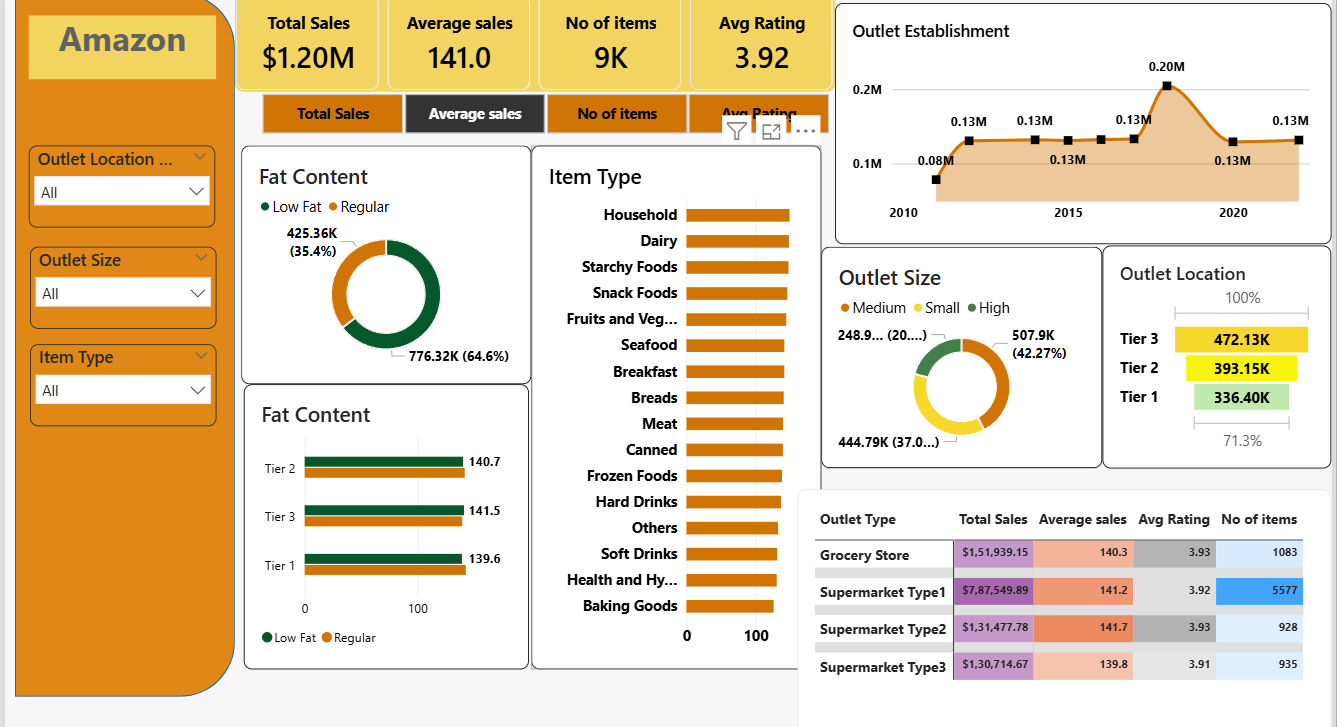

The dashboard page shown, as its layout file describes it:
{"tool":"powerbi","page":{"name":"Page 1","canvas":[1280,720],"ordinal":0},"visuals":[{"type":"shape","box":[9.7,0,212.3,679.2],"z":0},{"type":"textbox","box":[22.9,21.7,181,61.5],"z":1000},{"type":"cardVisual","fields":{"Data":["Table.Total Sales","Table.Average sales","Table.No of items","Table.Avg Rating"]},"box":[222,0,579.1,95.3],"z":2000},{"type":"donutChart","title":"Fat Content","fields":{"Category":["BlinkIT Grocery Data.Item Fat Content"],"Y":["Sum(BlinkIT Grocery Data.Sales)"]},"box":[228,147.2,279.9,230.4],"z":3000},{"type":"slicer","fields":{"Values":["Matrix.Matrix"]},"box":[228,95.3,586.3,42.2],"z":4000},{"type":"clusteredBarChart","title":" Fat Content","fields":{"Category":["BlinkIT Grocery Data.Outlet Location Type"],"Series":["BlinkIT Grocery Data.Item Fat Content"],"Y":["Table.Average sales"]},"box":[230.4,377.6,275.1,275.1],"z":5000},{"type":"barChart","title":"Item Type","fields":{"Category":["BlinkIT Grocery Data.Item Type"],"Y":["Table.Average sales"]},"box":[507.9,147.2,279.9,505.5],"z":6000},{"type":"lineChart","title":" Outlet Establishment","fields":{"Category":["BlinkIT Grocery Data.Outlet Establishment Year"],"Y":["Sum(BlinkIT Grocery Data.Sales)"]},"box":[801.1,9.7,479,232.8],"z":7000},{"type":"donutChart","title":"Outlet Size","fields":{"Category":["BlinkIT Grocery Data.Outlet Size"],"Y":["Sum(BlinkIT Grocery Data.Sales)"]},"box":[787.7,245.3,271.2,213.5],"z":8000},{"type":"funnel","title":"Outlet Location","fields":{"Category":["BlinkIT Grocery Data.Outlet Location Type"],"Y":["Sum(BlinkIT Grocery Data.Sales)"]},"box":[1059,243.8,220.7,215],"z":9000},{"type":"pivotTable","fields":{"Rows":["BlinkIT Grocery Data.Outlet Type"],"Values":["Table.Total Sales","Table.Average sales","Table.Avg Rating","Table.No of items"]},"box":[764.7,479,515.1,240.9],"z":9001},{"type":"slicer","fields":{"Values":["BlinkIT Grocery Data.Outlet Location Type"]},"box":[23.1,147.2,180.3,79.4],"z":9002},{"type":"slicer","fields":{"Values":["BlinkIT Grocery Data.Outlet Size"]},"box":[24.5,245.3,180.3,79.4],"z":9003},{"type":"slicer","fields":{"Values":["BlinkIT Grocery Data.Item Type"]},"box":[24.5,339,180.3,79.4],"z":9004}]}

Visuals, with their boxes in screenshot pixels (x1, y1, x2, y2):
shape: [x1=13, y1=0, x2=232, y2=690]
textbox: [x1=27, y1=12, x2=214, y2=75]
cardVisual - Table.Total Sales x Table.Average sales: [x1=232, y1=0, x2=829, y2=88]
"Fat Content" donutChart: [x1=238, y1=141, x2=527, y2=379]
slicer - Matrix.Matrix: [x1=238, y1=88, x2=843, y2=131]
" Fat Content" clusteredBarChart: [x1=241, y1=379, x2=525, y2=662]
"Item Type" barChart: [x1=527, y1=141, x2=815, y2=662]
" Outlet Establishment" lineChart: [x1=829, y1=0, x2=1323, y2=239]
"Outlet Size" donutChart: [x1=815, y1=242, x2=1095, y2=462]
"Outlet Location" funnel: [x1=1095, y1=241, x2=1322, y2=462]
pivotTable - BlinkIT Grocery Data.Outlet Type x Table.Total Sales: [x1=792, y1=483, x2=1323, y2=726]
slicer - BlinkIT Grocery Data.Outlet Location Type: [x1=27, y1=141, x2=213, y2=223]
slicer - BlinkIT Grocery Data.Outlet Size: [x1=29, y1=242, x2=215, y2=324]
slicer - BlinkIT Grocery Data.Item Type: [x1=29, y1=339, x2=215, y2=421]
